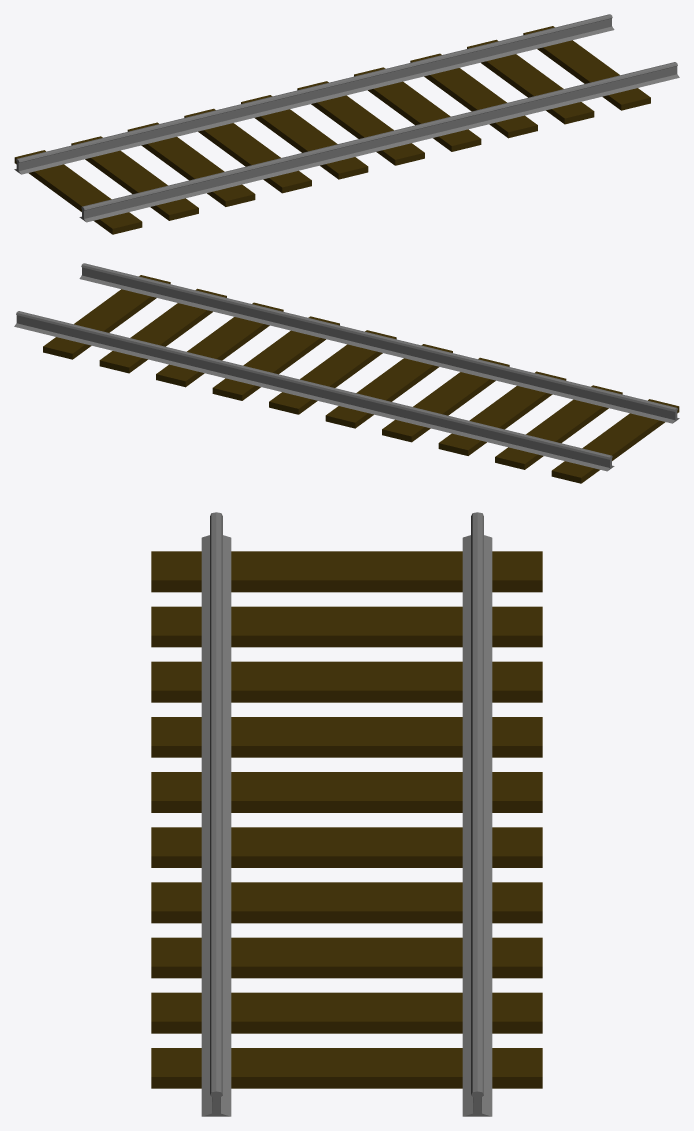
Rendered from RailwayTrack (LowPoly).fbx.
3 views of the same model, one above another, from view 1: azimuth 30°, elevation 25°; view 2: azimuth 150°, elevation 25°; view 3: azimuth 270°, elevation 25° (orthographic). The views are drawn at different scales.
Parts seen in each view (by area): view 1: Railway Track; view 2: Railway Track; view 3: Railway Track.
Part boxes in pixels (x1,y1,x2,y2): Railway Track: (14,14,679,234); Railway Track: (14,263,679,483); Railway Track: (151,512,542,1116).
Bounding box in the file's own units: 1050 × 32.06 × 300.
